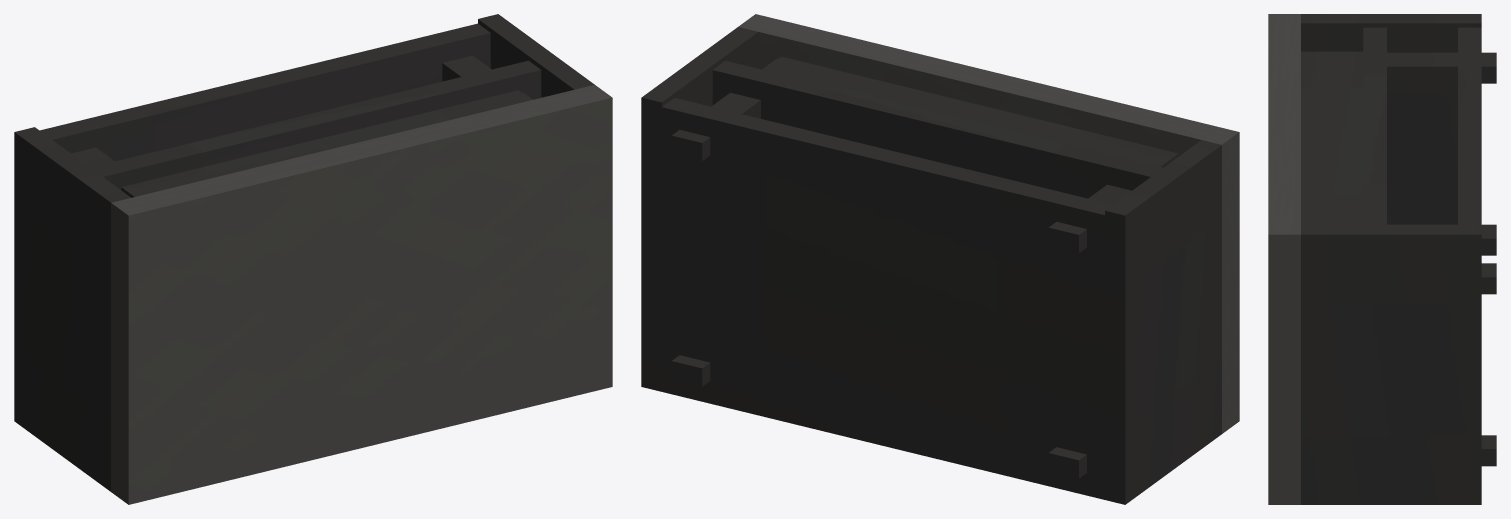
File: pz_table_tables_low_01_black_low_modern.obj
The picture shows the model from 3 angles, left to right: view 1: azimuth 30°, elevation 25°; view 2: azimuth 150°, elevation 25°; view 3: azimuth 270°, elevation 25°; orthographic projection. The views are drawn at different scales.
Bounding box in the file's own units: 0.875 × 0.5 × 0.3827.
Materials: 1 (1 with a texture image).
